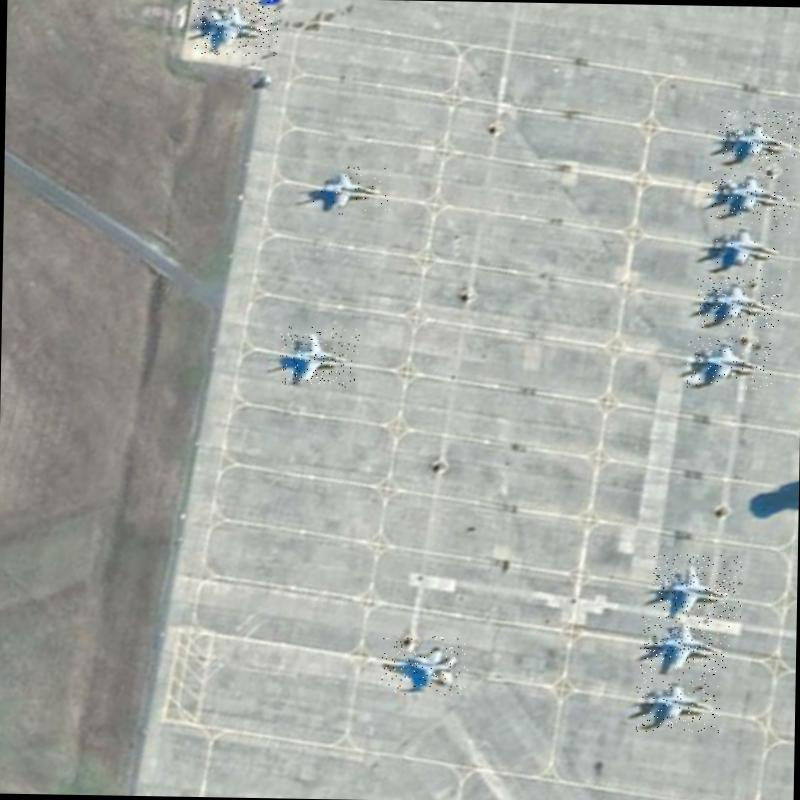A16: (652, 553, 742, 621), (378, 634, 468, 695), (640, 615, 730, 675), (635, 674, 720, 732), (192, 0, 280, 56), (279, 326, 359, 387), (707, 165, 795, 220), (686, 336, 772, 389), (696, 276, 782, 328), (706, 220, 790, 272), (718, 110, 800, 161), (311, 164, 391, 216)
